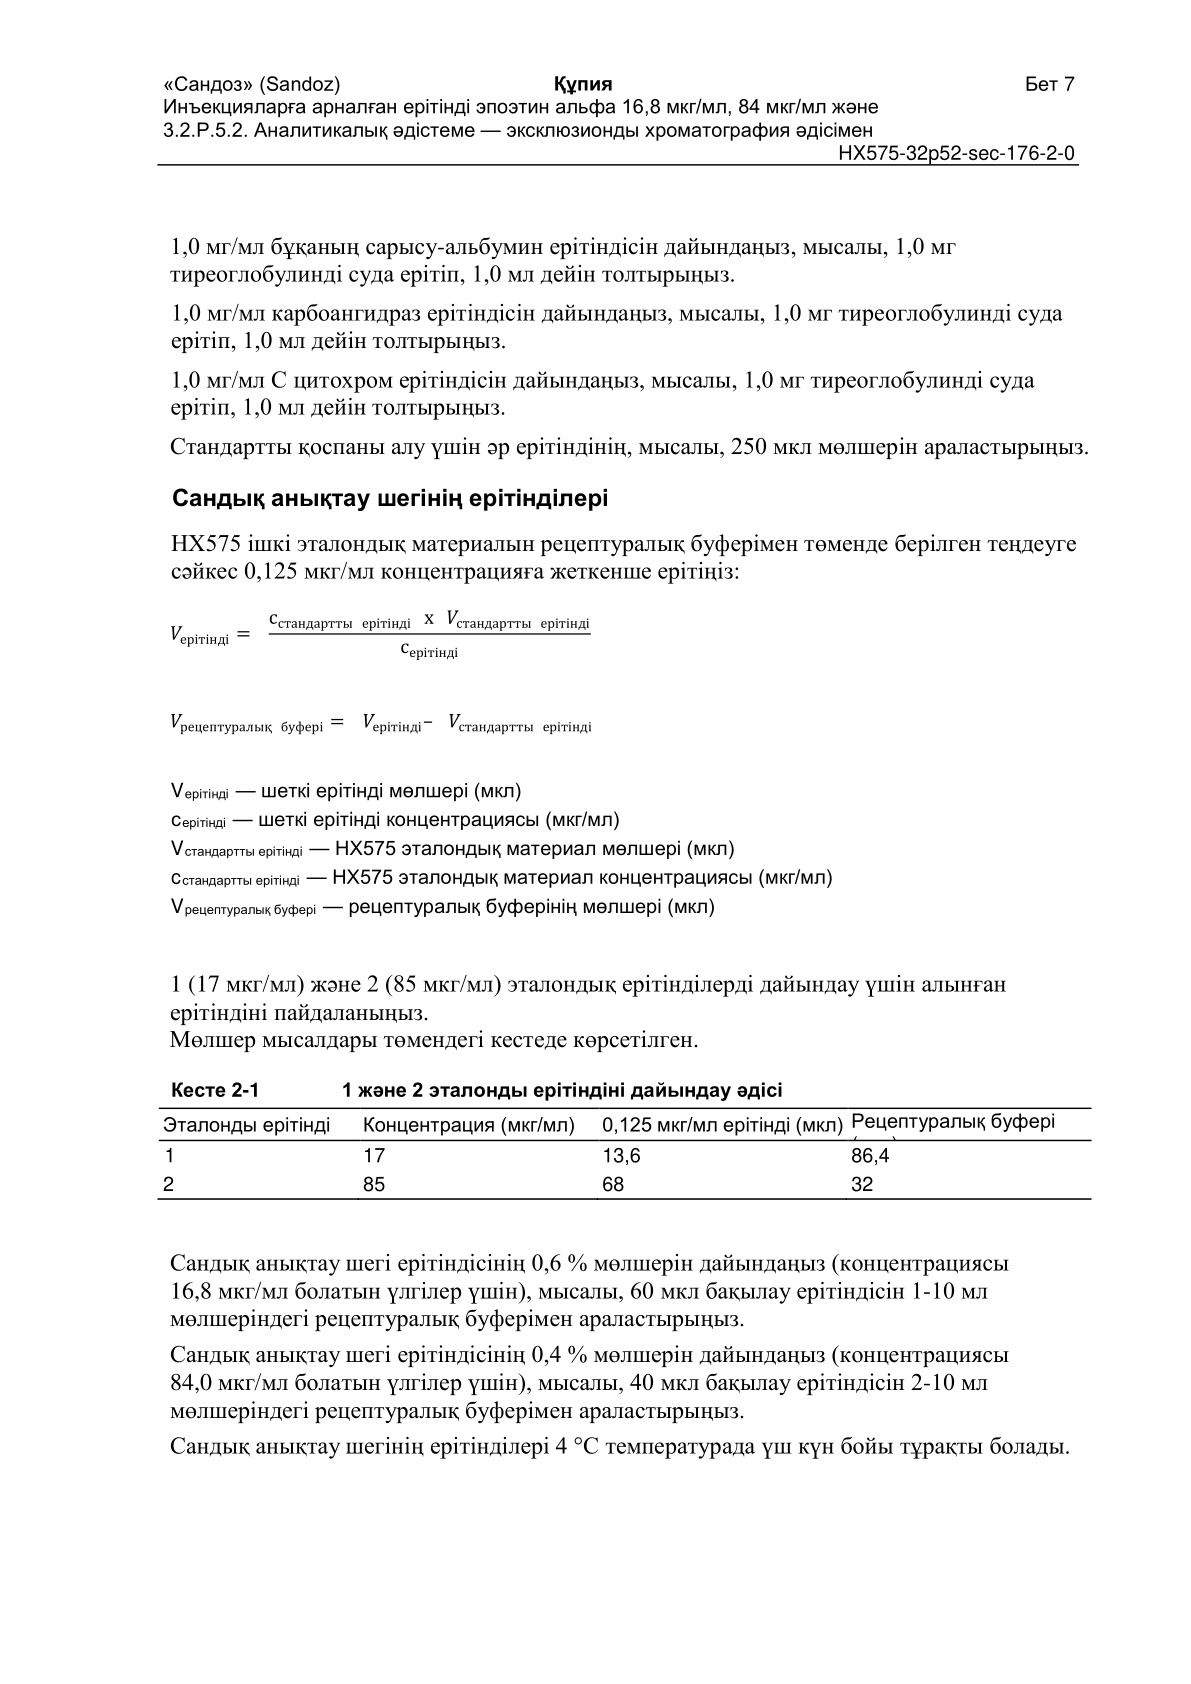partial_lined: (159, 1105, 1092, 1200)
